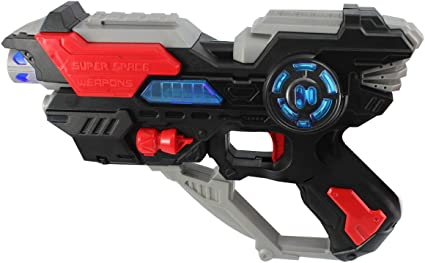Arma Falsa: (3, 2, 422, 263)
